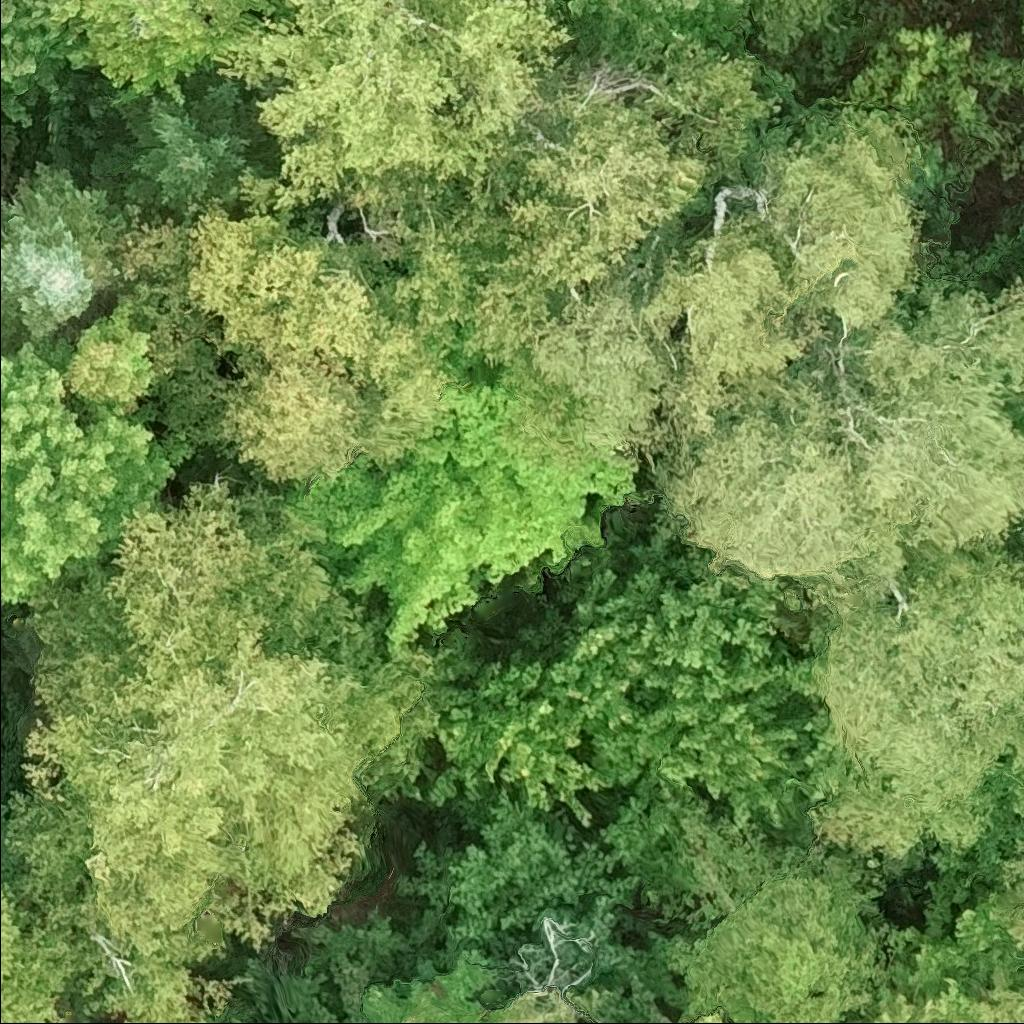crown: (5, 480, 490, 968), (656, 273, 1023, 618), (112, 199, 472, 494), (375, 68, 714, 374), (278, 380, 639, 659), (188, 0, 578, 226), (803, 538, 1023, 860), (643, 209, 845, 466), (391, 785, 651, 970), (0, 337, 178, 607), (757, 110, 931, 338), (518, 242, 678, 471), (654, 635, 829, 830), (541, 561, 688, 791), (669, 871, 890, 1023), (428, 648, 609, 828), (89, 77, 279, 218), (45, 0, 271, 115), (0, 157, 128, 353), (838, 24, 1019, 138), (363, 943, 580, 1023), (550, 0, 757, 69), (640, 578, 780, 679), (846, 925, 984, 1023), (77, 947, 252, 1023), (64, 280, 162, 415), (0, 880, 80, 1023), (0, 0, 84, 128), (986, 718, 1023, 955), (691, 1013, 731, 1023), (222, 1015, 245, 1023)
